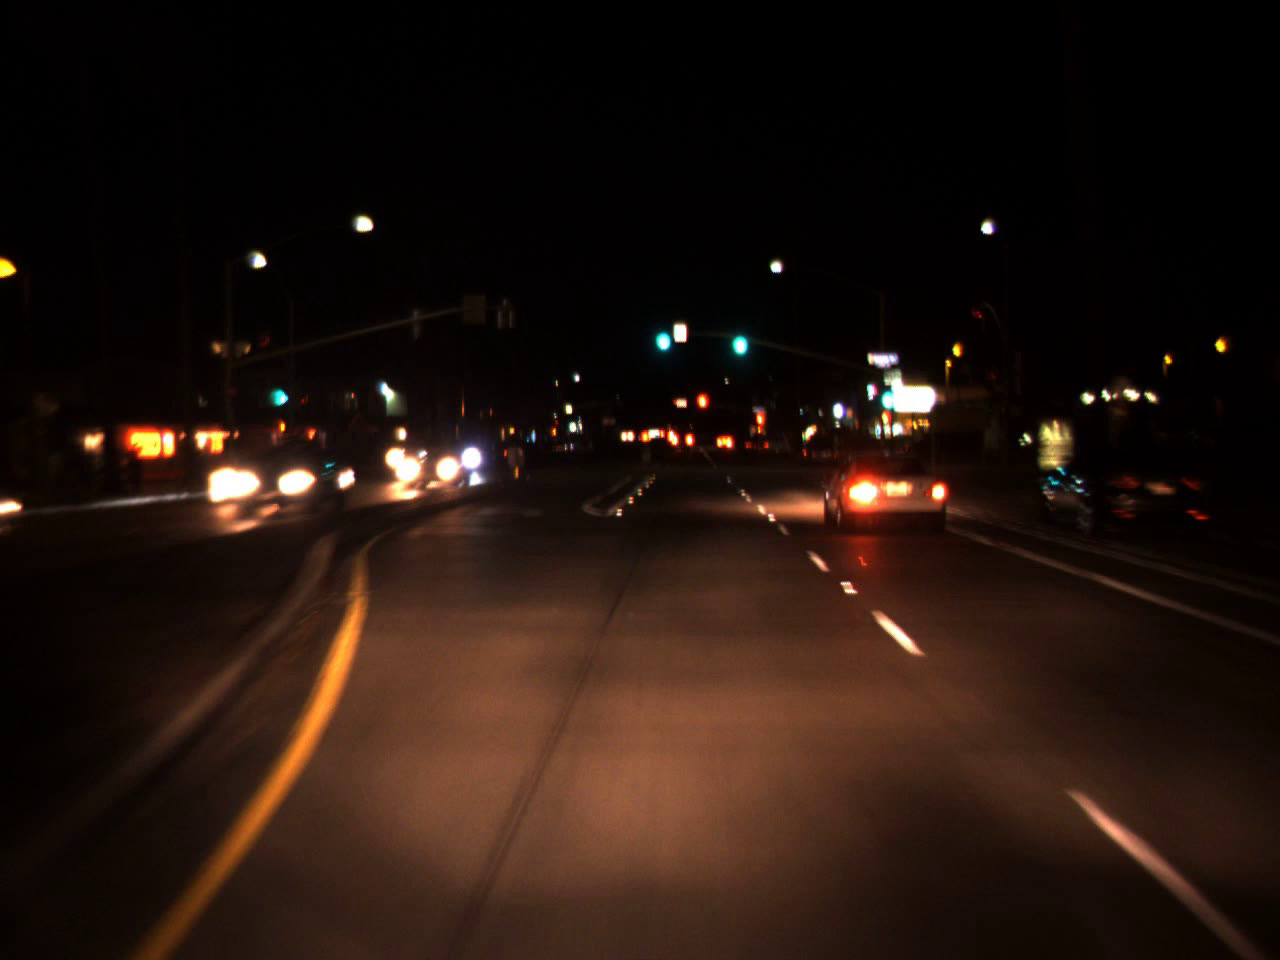go: (727, 311, 750, 362), (650, 311, 673, 356), (876, 372, 895, 411), (272, 370, 286, 412)
stop: (694, 390, 710, 427), (755, 408, 765, 445)
